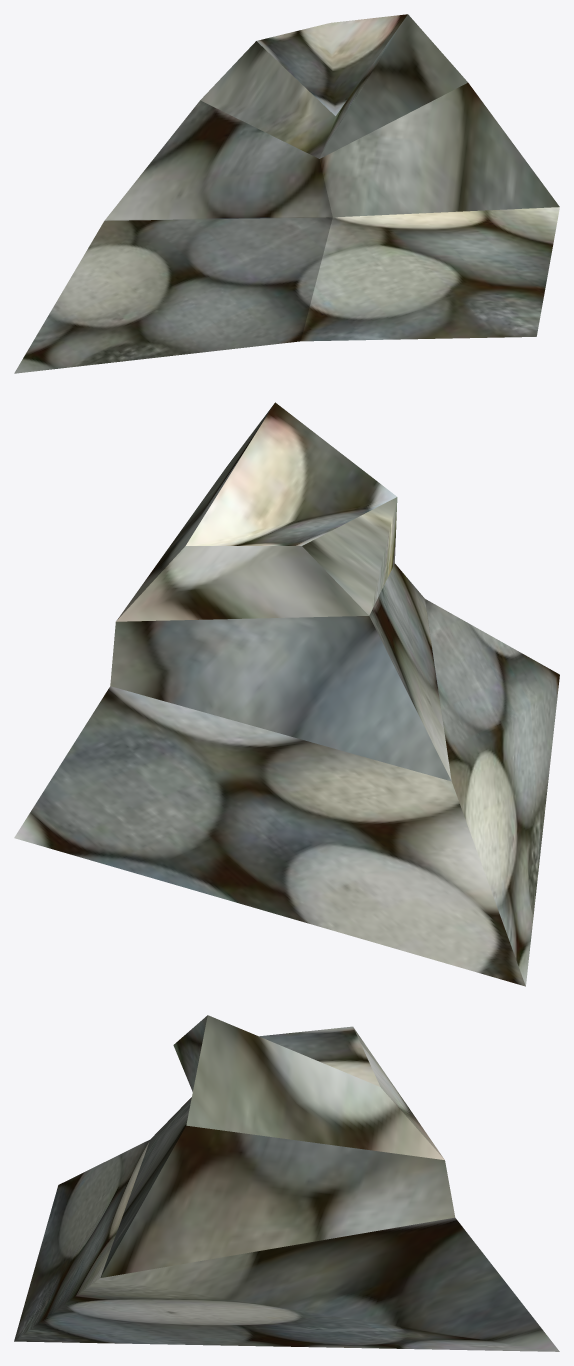
The model's file is pebble_initial.obj.
The picture shows the model from 3 angles, top to bottom: view 1: azimuth 30°, elevation 25°; view 2: azimuth 150°, elevation 25°; view 3: azimuth 270°, elevation 25°; orthographic projection. The views are drawn at different scales.
Parts seen in each view (by area): view 1: Cube; view 2: Cube; view 3: Cube.
Boxes of the visible parts, x1,y1,x2,y2 form: Cube: (14,14,559,373); Cube: (14,402,559,986); Cube: (14,1015,559,1351).
Size of the model in its own units: 4.83 by 3.99 by 4.99.
